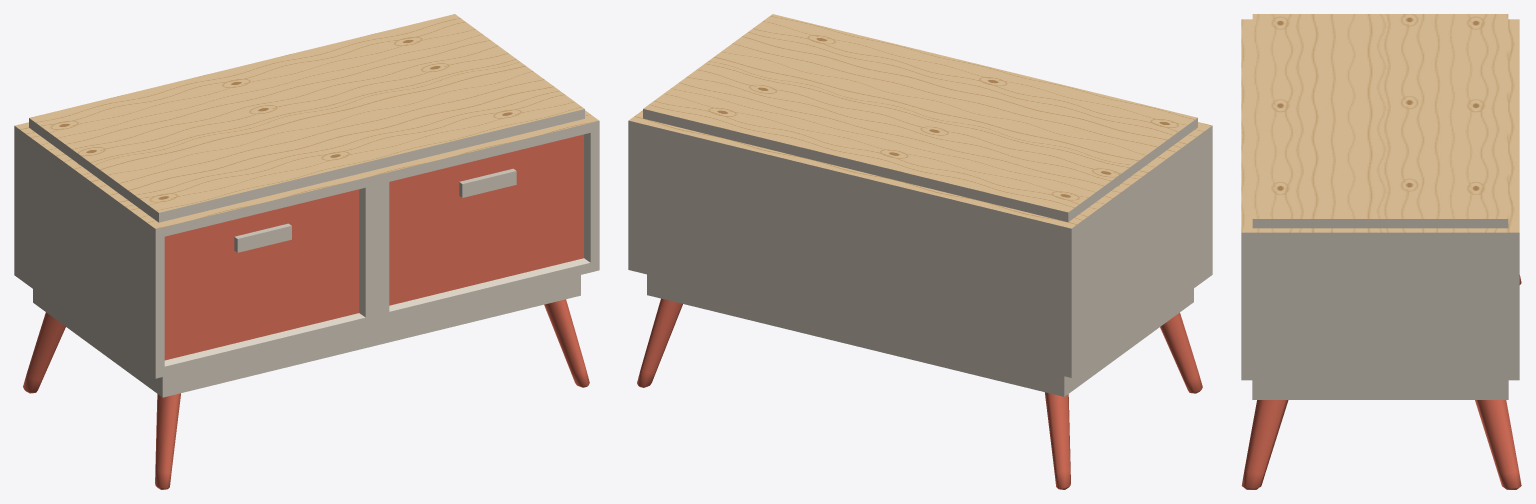
File: island_c.glb
3 renders of one model, left to right at view 1: azimuth 30°, elevation 25°; view 2: azimuth 150°, elevation 25°; view 3: azimuth 270°, elevation 25°, orthographic.
Parts seen in each view (by area): view 1: body; view 2: body; view 3: body.
Boxes of the visible parts, x1,y1,x2,y2 form: body: (14,14,599,489); body: (628,14,1212,489); body: (1241,14,1521,489).
Bounding box in the file's own units: 1.55 × 0.92 × 0.86.
3 materials, 1 textured.
